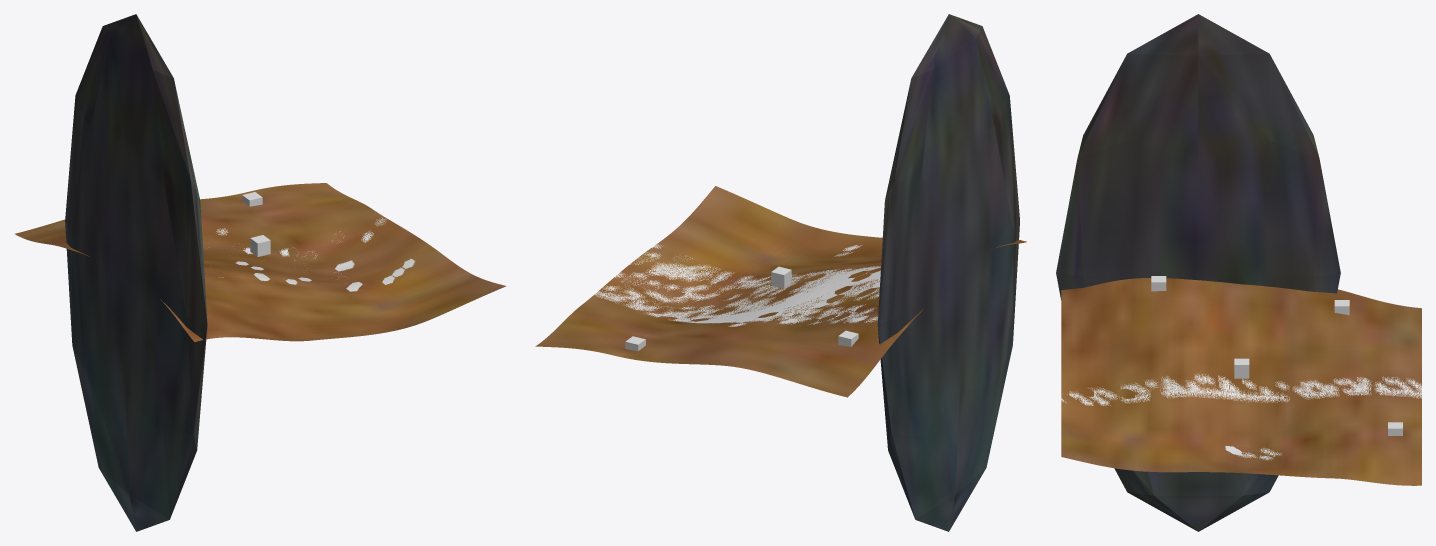
File: fse--dan.gltf
3 views of the same model, side by side, from view 1: azimuth 30°, elevation 25°; view 2: azimuth 150°, elevation 25°; view 3: azimuth 270°, elevation 25° (orthographic).
Visible parts, largest first — view 1: Icosphere, Plane, Plane.001; view 2: Icosphere, Plane, Plane.001; view 3: Plane, Icosphere, Plane.001.
Boxes of the visible parts, left/top/right/bottom form: Icosphere: left=65, top=14, right=207, bottom=531; Plane: left=15, top=183, right=506, bottom=342; Plane.001: left=216, top=216, right=415, bottom=291; Icosphere: left=877, top=14, right=1019, bottom=531; Plane: left=535, top=186, right=1026, bottom=397; Plane.001: left=594, top=244, right=880, bottom=326; Plane: left=1061, top=278, right=1421, bottom=485; Icosphere: left=1056, top=14, right=1340, bottom=531; Plane.001: left=1061, top=373, right=1421, bottom=460.
Bounding box in the file's own units: 48.31 × 76.22 × 48.8.
1 material, 1 textured.
